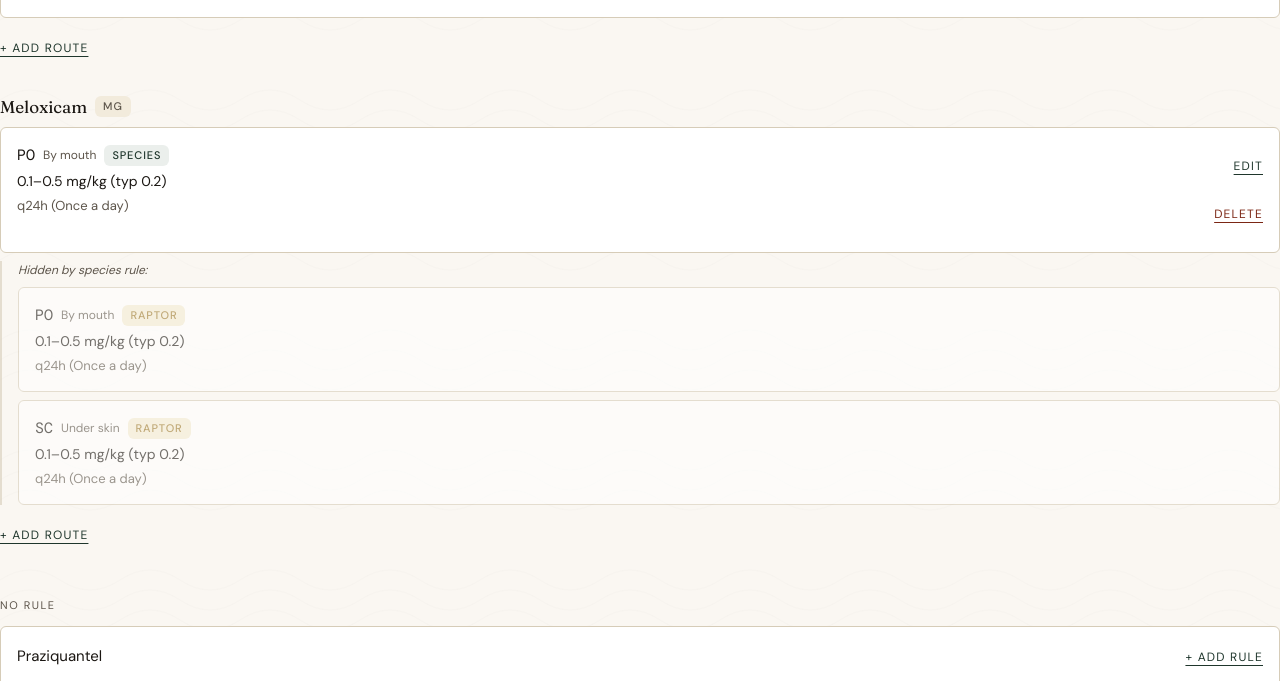
SpeciesPage › offers only this species when adding a route to a med in effect via species rules
This screenshot has width=1280, height=681.
(page scrolled)
Click the button "+ Add route" below "Under skin": (44, 535) [0, 513, 88, 557]
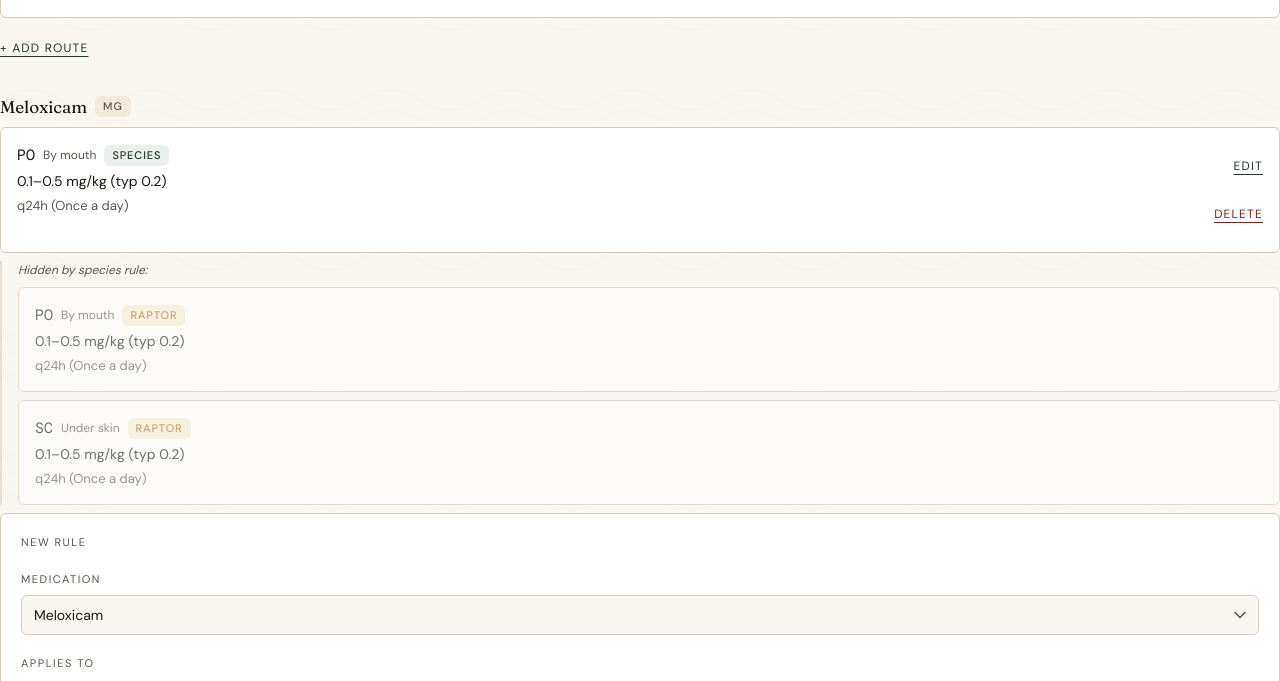
Check: the text "New rule" is shown, box [21, 535, 86, 549]
